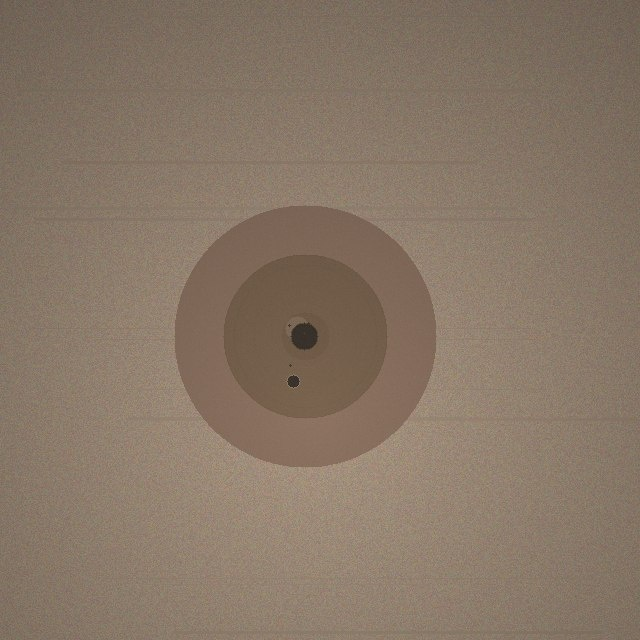shrinkage: (174, 205, 436, 467)
